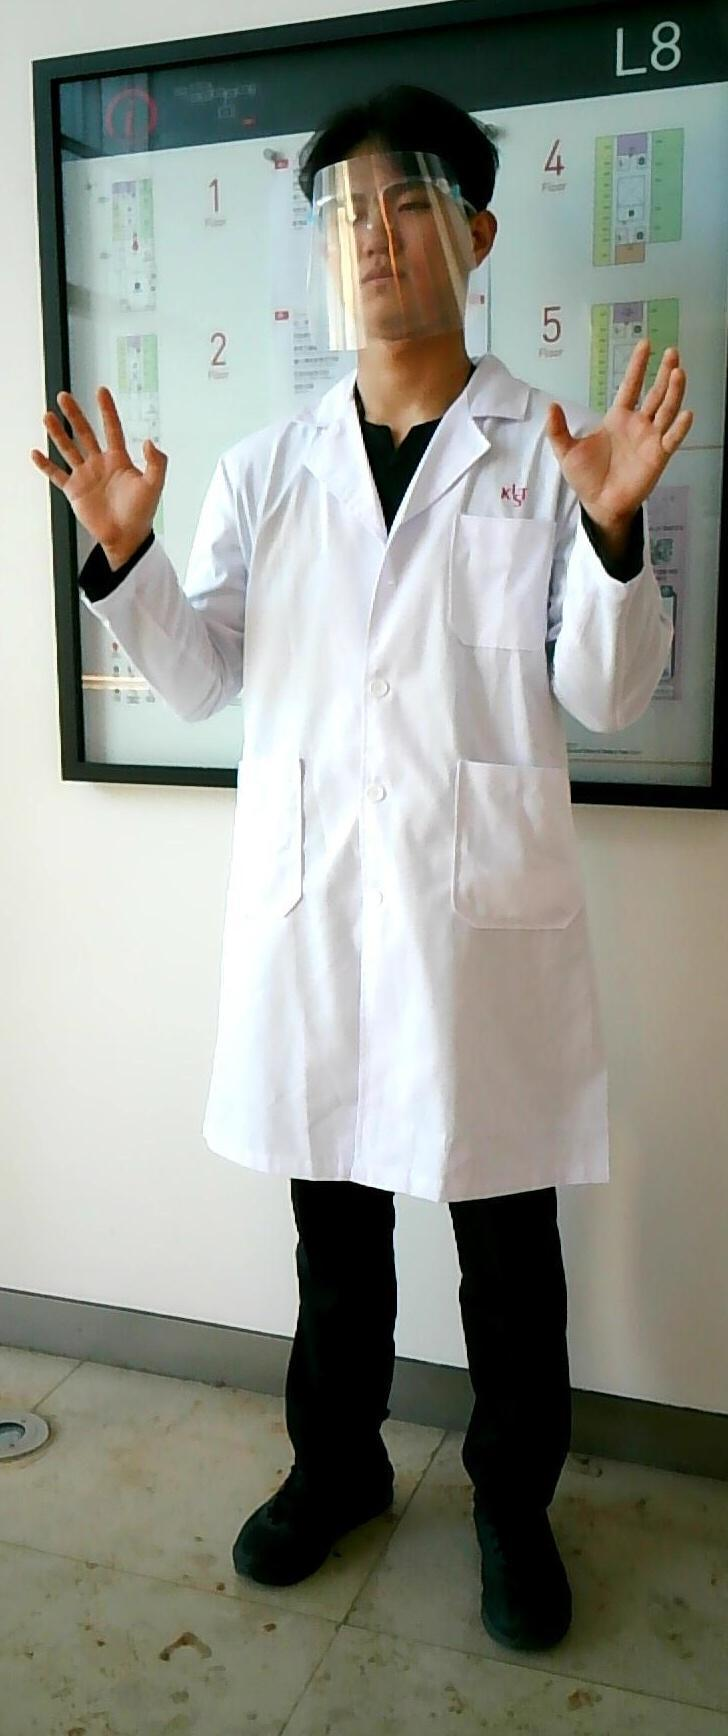lab_coat: (195, 391, 558, 1185)
